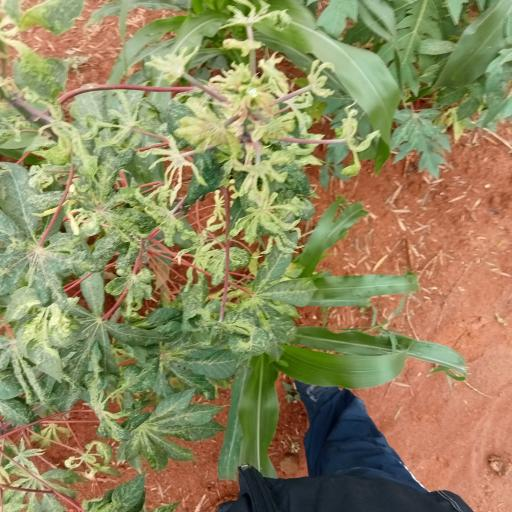Cassava_Mosaic: (0, 166, 85, 303), (236, 248, 314, 364), (125, 396, 218, 466)
